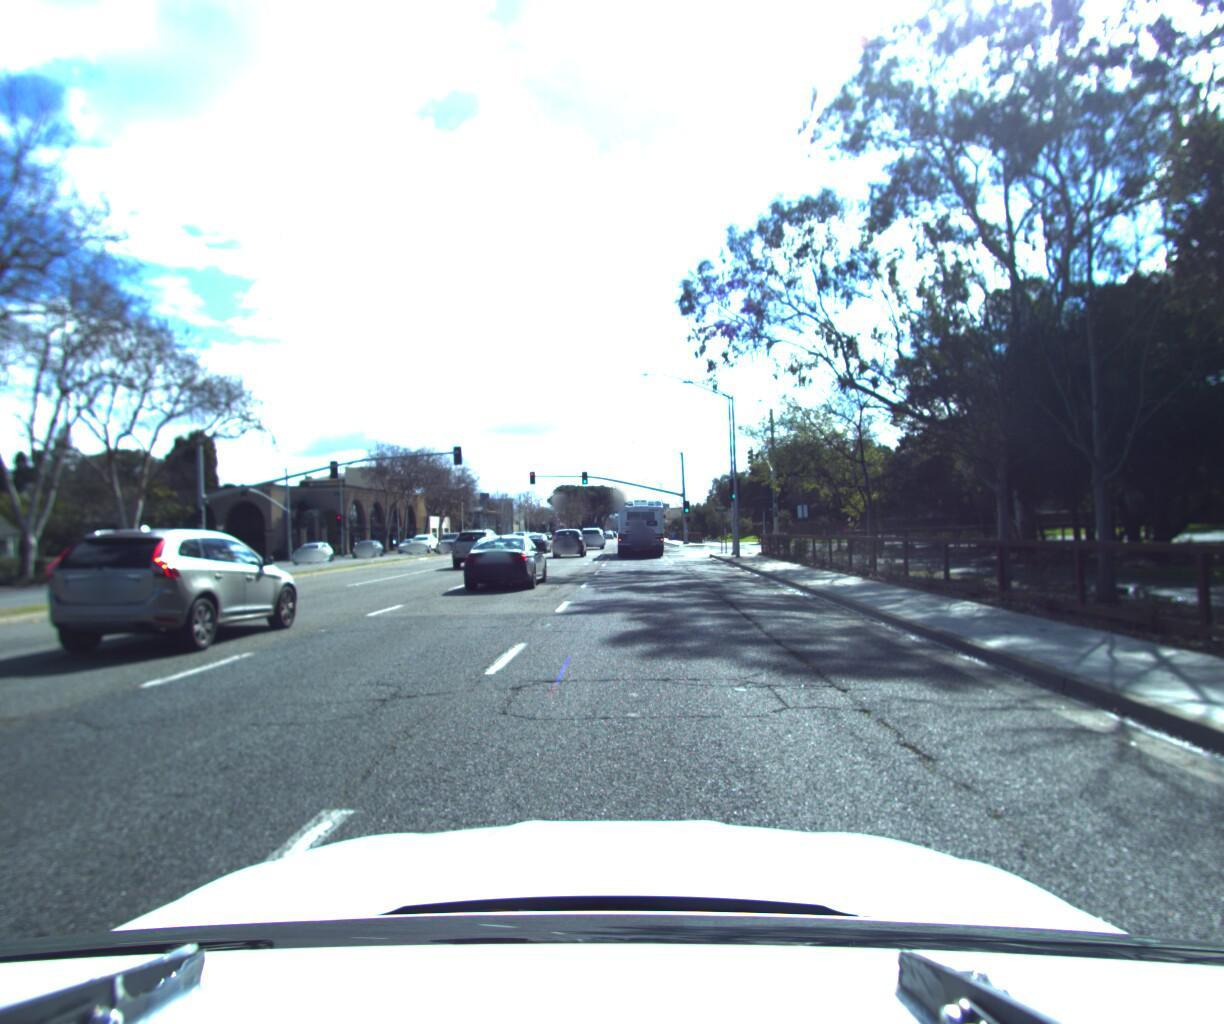bus: (617, 493, 672, 557)
car: (30, 528, 315, 670), (456, 533, 554, 598), (449, 525, 510, 567), (288, 539, 339, 565), (552, 527, 587, 558), (524, 532, 557, 556), (403, 533, 439, 552), (579, 526, 606, 549)
